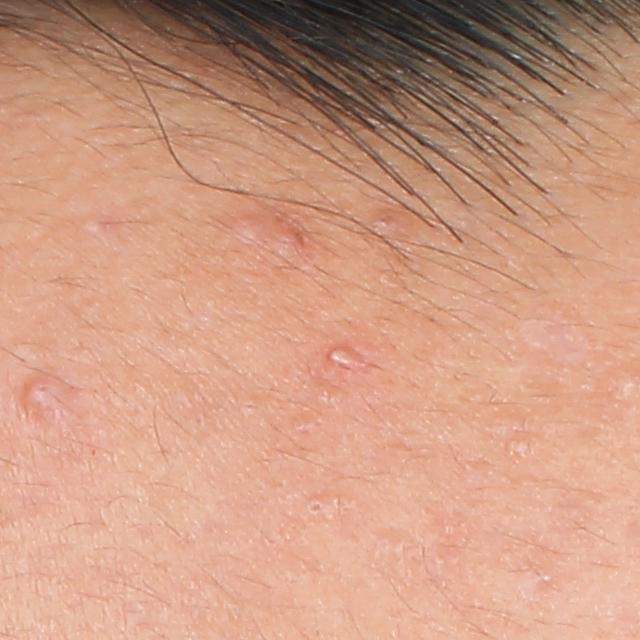comedo: (608, 373, 640, 402), (302, 492, 331, 519), (503, 436, 530, 461)
papule: (266, 227, 307, 263)
pustule: (327, 345, 354, 368)
